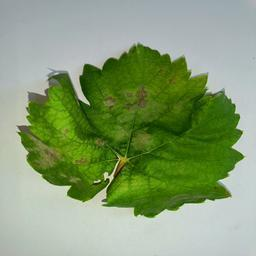Powdery-Mildew: (34, 134, 63, 169), (51, 100, 76, 140), (124, 87, 156, 118), (114, 175, 149, 200), (74, 151, 102, 177), (133, 131, 158, 160), (172, 70, 188, 87), (99, 95, 116, 111)
